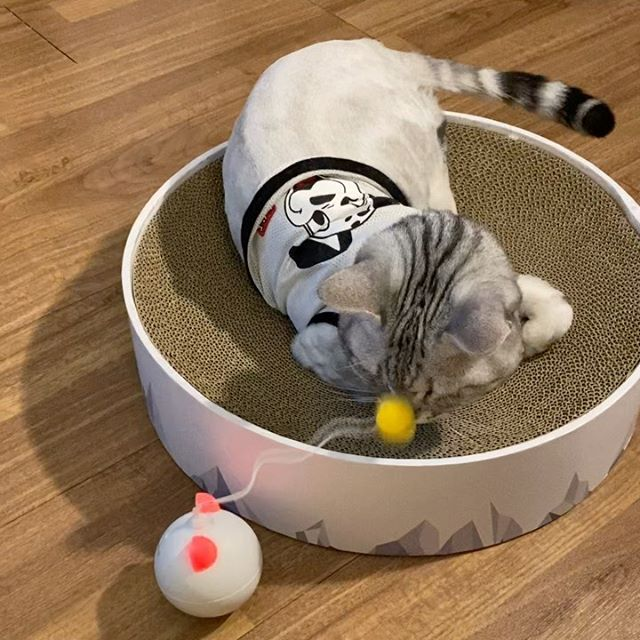cat: (329, 218, 523, 420)
